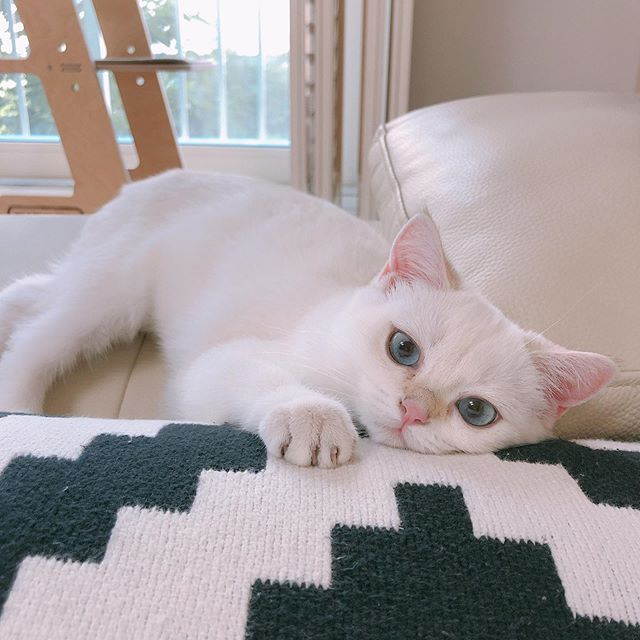cat: (340, 210, 619, 476)
